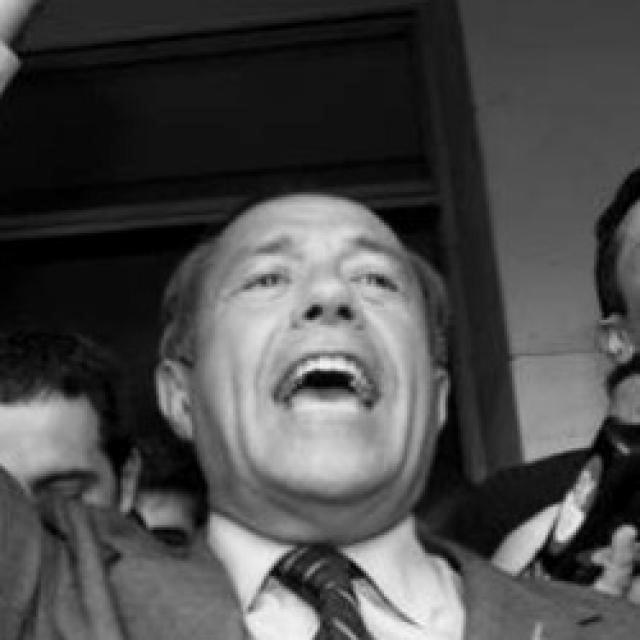real: (197, 191, 439, 508), (229, 243, 413, 310)
